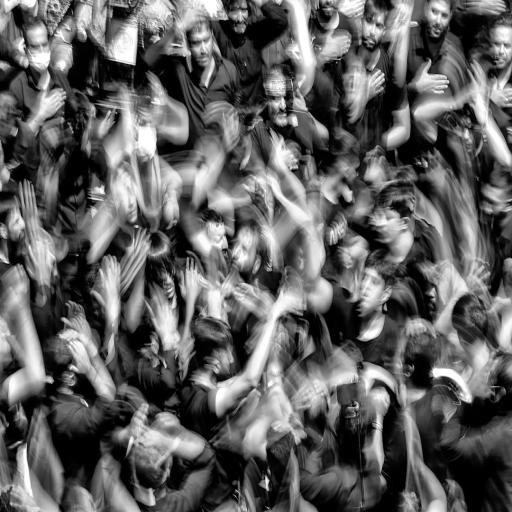face: (358, 269, 386, 317), (112, 173, 137, 223), (232, 227, 257, 275), (371, 209, 404, 245), (25, 26, 50, 73), (188, 26, 212, 68), (482, 185, 511, 219), (426, 0, 450, 39), (490, 26, 511, 70), (362, 13, 385, 51), (267, 89, 287, 127), (206, 222, 228, 253), (228, 0, 248, 34), (7, 208, 25, 242)
